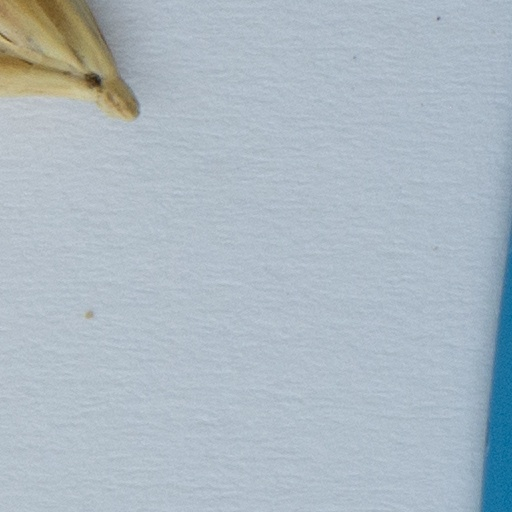Peel-poly: (0, 0, 137, 122)
